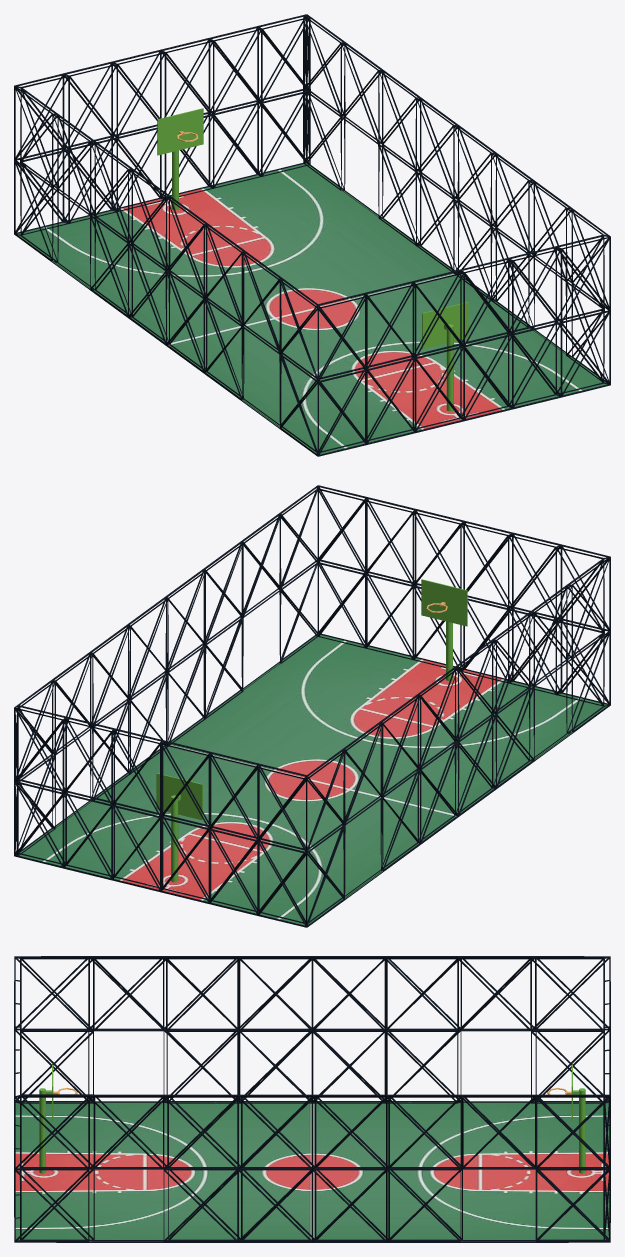
The model's file is infrastructure-building-basketball-court.fbx.
3 renders of one model, top to bottom at view 1: azimuth 30°, elevation 25°; view 2: azimuth 150°, elevation 25°; view 3: azimuth 270°, elevation 25°, orthographic.
Parts seen in each view (by area): view 1: infrastructure-building-basketball-court; view 2: infrastructure-building-basketball-court; view 3: infrastructure-building-basketball-court.
Part boxes in pixels (box(x1,y1,x2,y2)): infrastructure-building-basketball-court: box(14, 14, 610, 456); infrastructure-building-basketball-court: box(14, 485, 610, 927); infrastructure-building-basketball-court: box(14, 956, 610, 1242).
Bounding box in the file's own units: 13.29 × 6.47 × 23.85.
